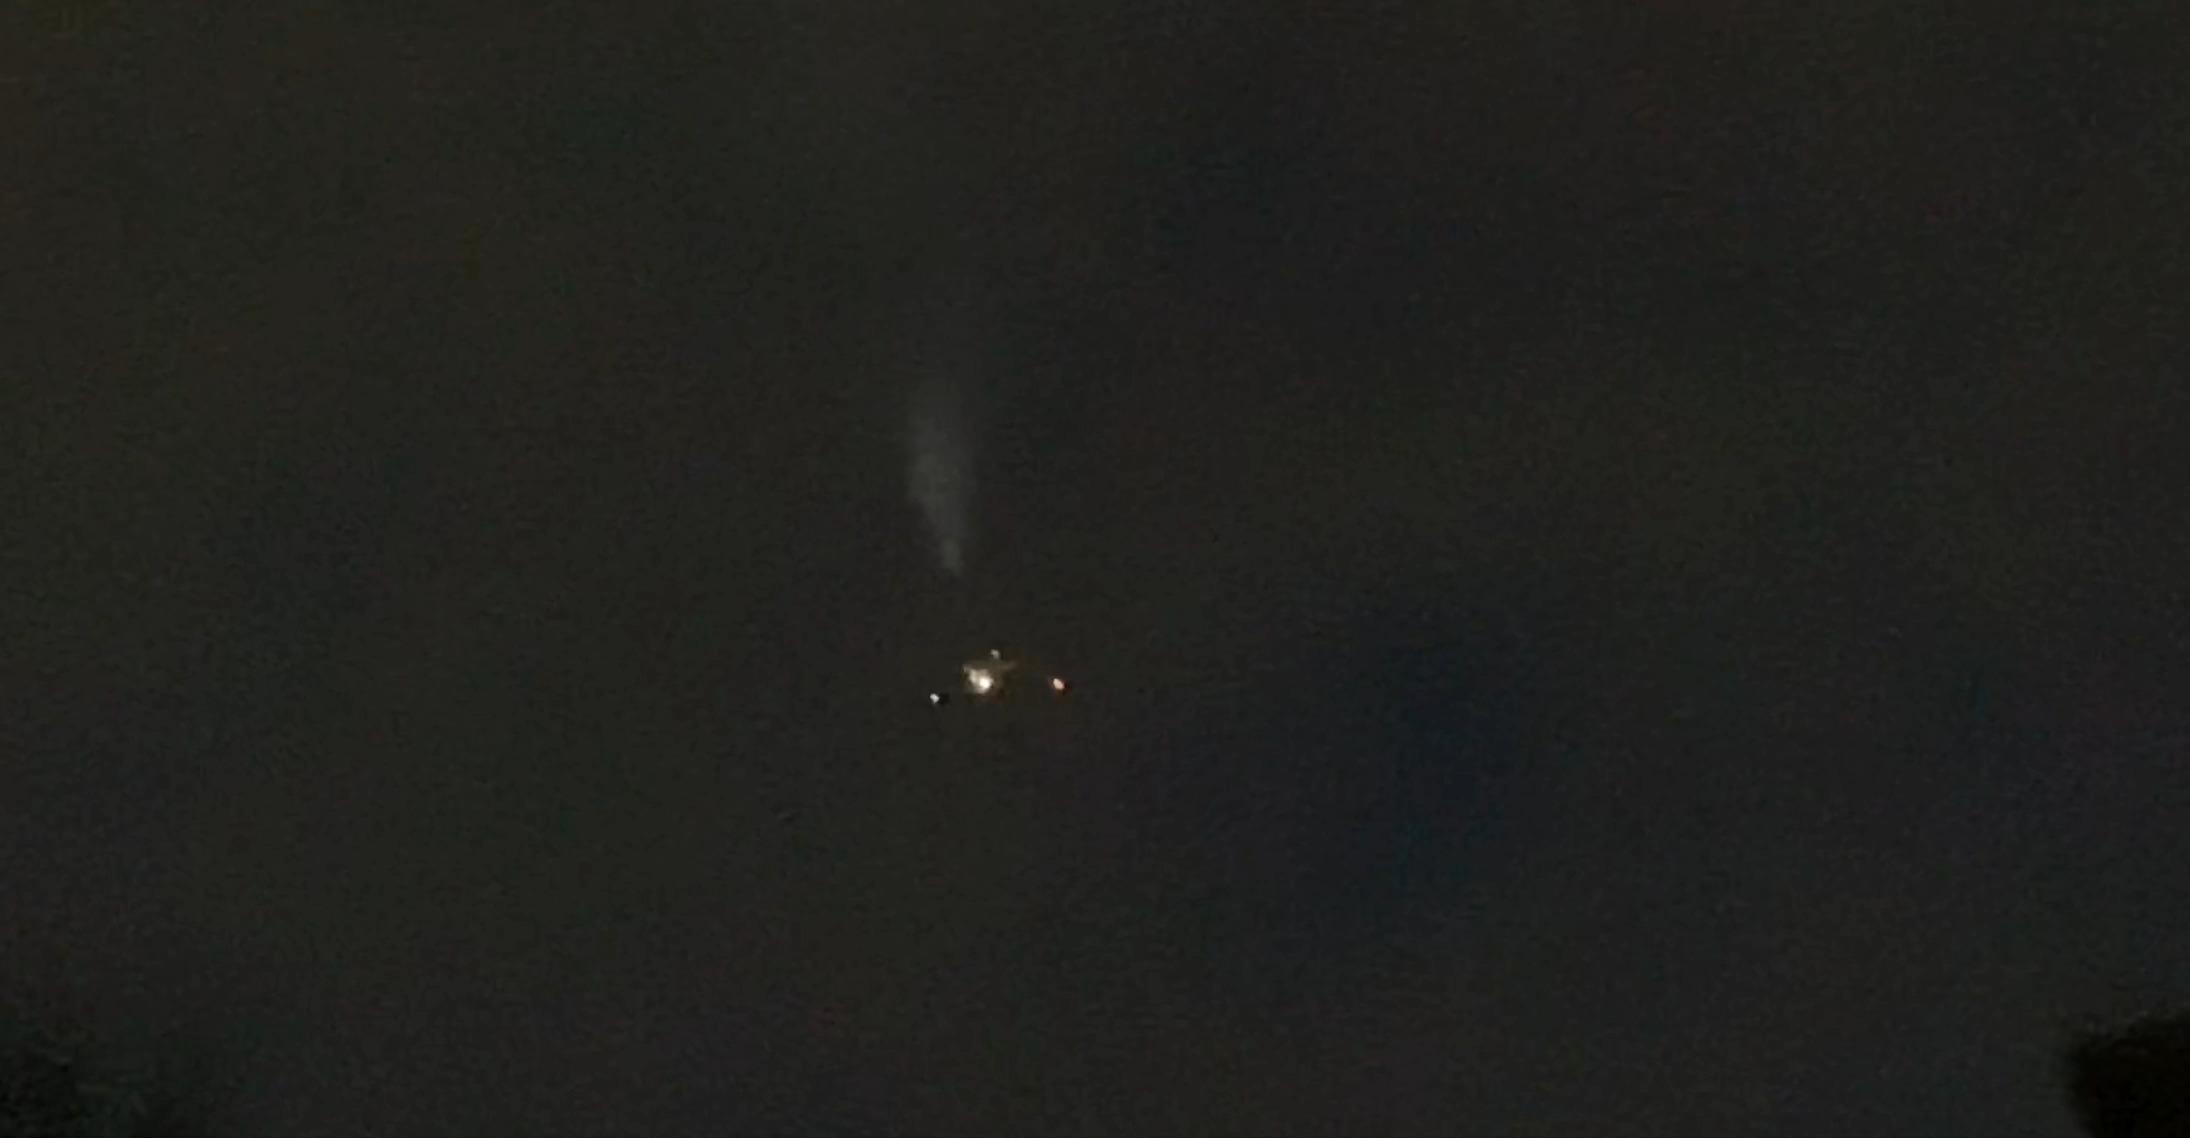Plane: (863, 624, 1123, 727)
